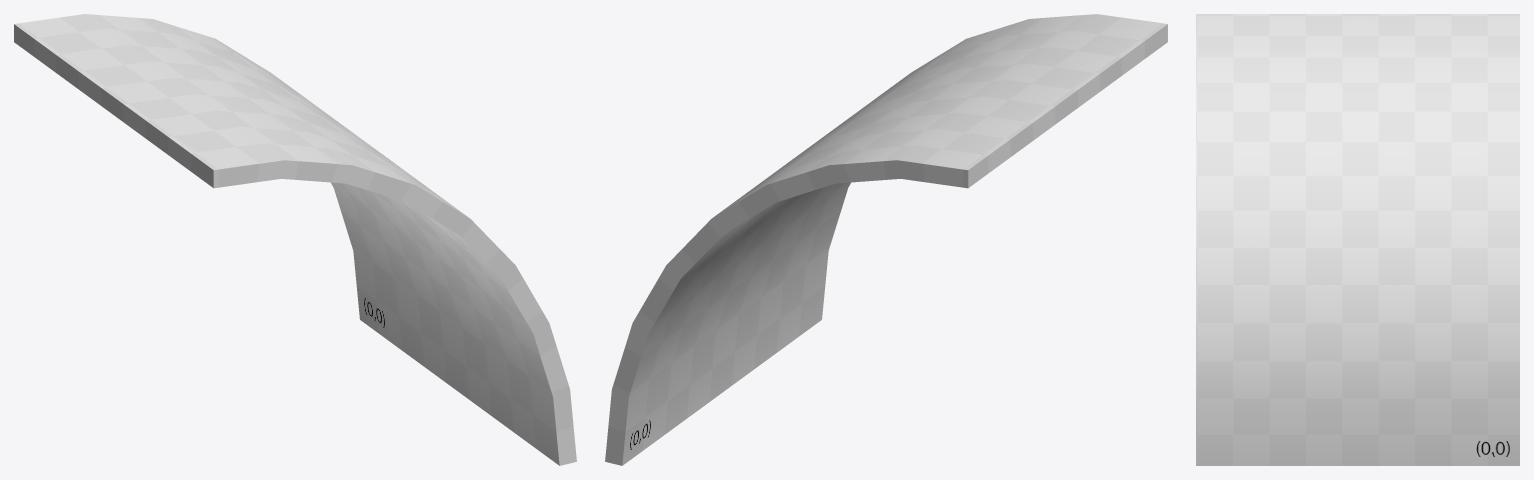
File: enginehall_wall_arc_right.fbx
3 renders of one model, left to right at view 1: azimuth 30°, elevation 25°; view 2: azimuth 150°, elevation 25°; view 3: azimuth 270°, elevation 25°, orthographic. The views are drawn at different scales.
Parts seen in each view (by area): view 1: enginehall_wall_arc_right; view 2: enginehall_wall_arc_right; view 3: enginehall_wall_arc_right.
Boxes of the visible parts, <box> form: enginehall_wall_arc_right: <box>14,14,576,465</box>; enginehall_wall_arc_right: <box>605,14,1167,465</box>; enginehall_wall_arc_right: <box>1196,14,1519,465</box>.
Size of the model in its own units: 420 by 420 by 400.
